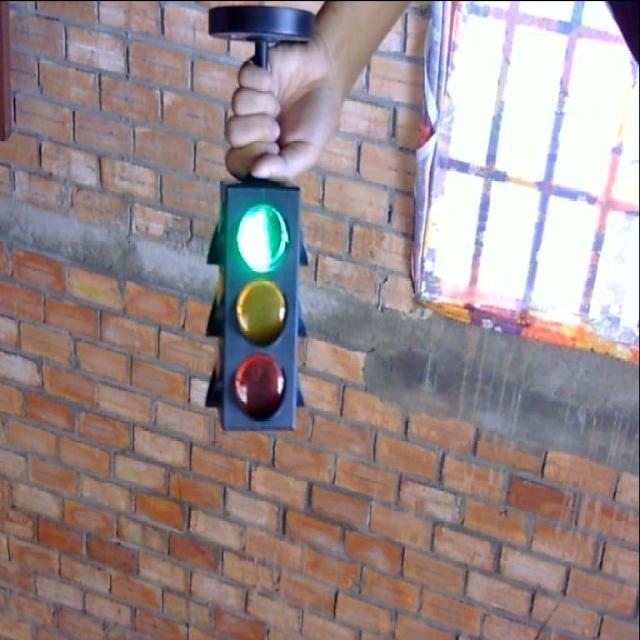green_light: (204, 177, 306, 428)
